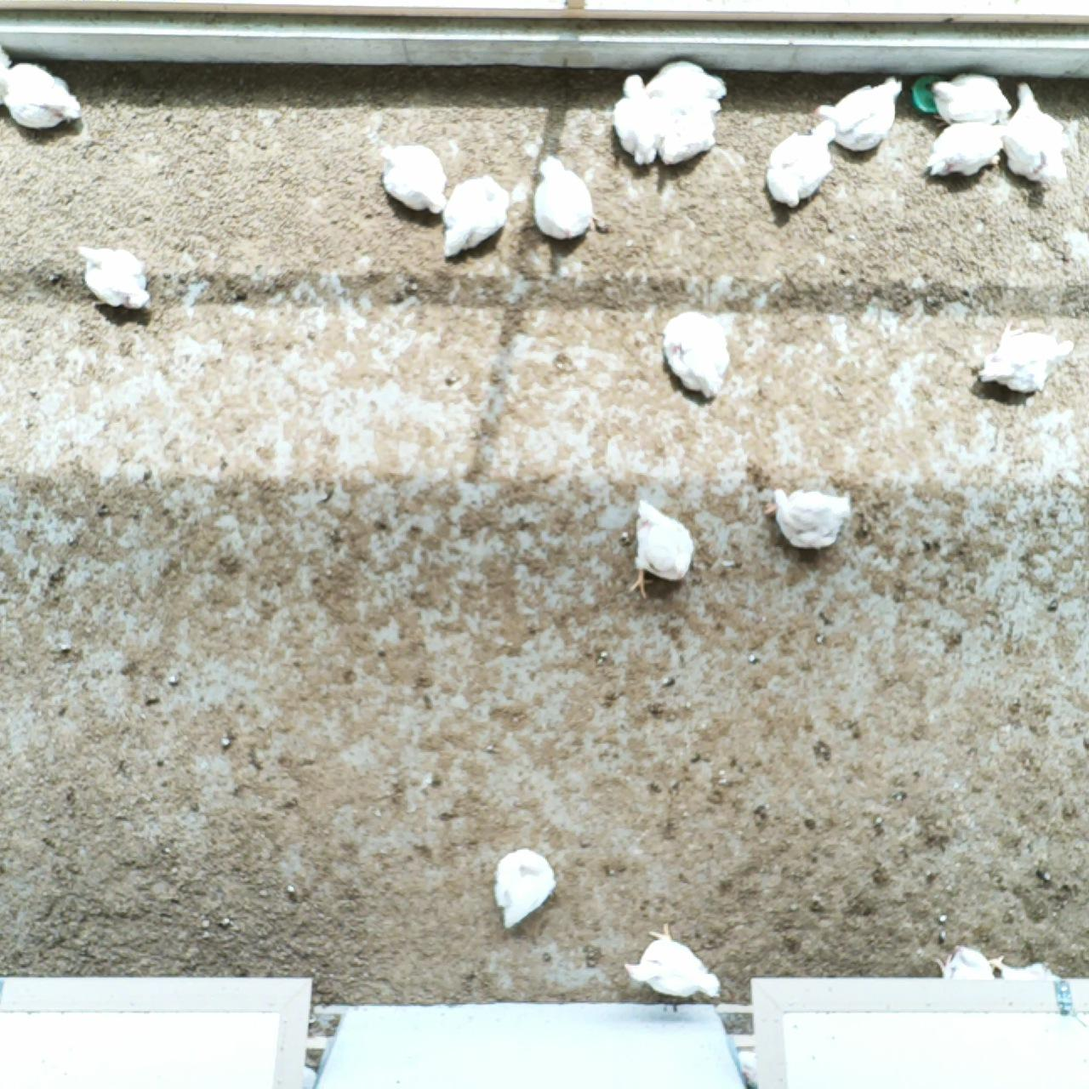chicken: (622, 919, 727, 1001), (975, 316, 1076, 396), (626, 496, 700, 601), (1001, 78, 1073, 185), (810, 74, 905, 154), (761, 120, 838, 210), (661, 308, 731, 401), (530, 153, 603, 241), (439, 173, 512, 261), (0, 60, 83, 131), (768, 483, 852, 553), (492, 845, 559, 932), (74, 240, 152, 313), (377, 139, 450, 215), (923, 118, 1006, 181), (607, 72, 659, 168), (926, 70, 1013, 127), (656, 96, 724, 168), (643, 56, 729, 102), (931, 941, 997, 982), (987, 951, 1061, 980)
